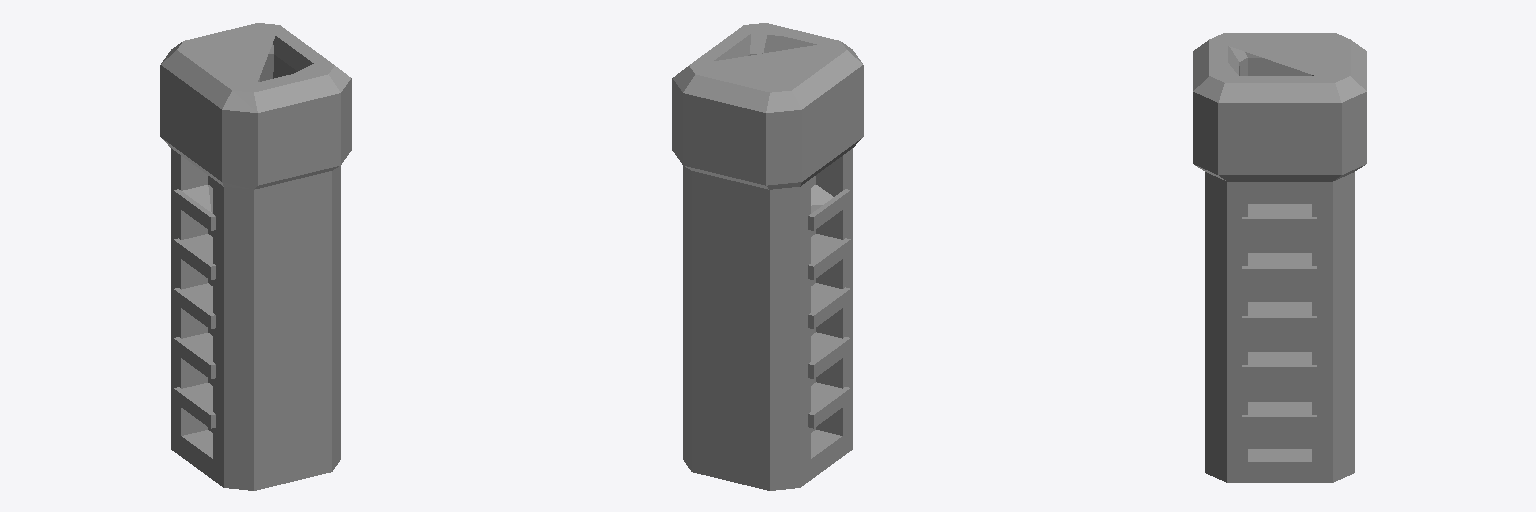
File: torre_vigilancia.obj
3 views of the same model, side by side, from view 1: azimuth 30°, elevation 25°; view 2: azimuth 150°, elevation 25°; view 3: azimuth 270°, elevation 25° (orthographic).
Visible parts, largest first — view 1: Cube; view 2: Cube; view 3: Cube.
Boxes of the visible parts, <box> form: Cube: <box>160,23,351,490</box>; Cube: <box>672,23,863,490</box>; Cube: <box>1193,33,1366,482</box>.
Size of the model in its own units: 3.07 by 8.97 by 3.56.